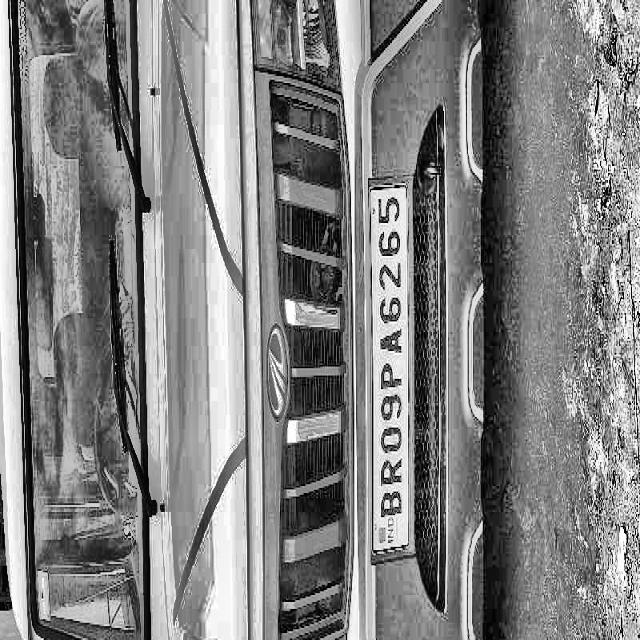light_vehicle: (0, 0, 482, 640)
